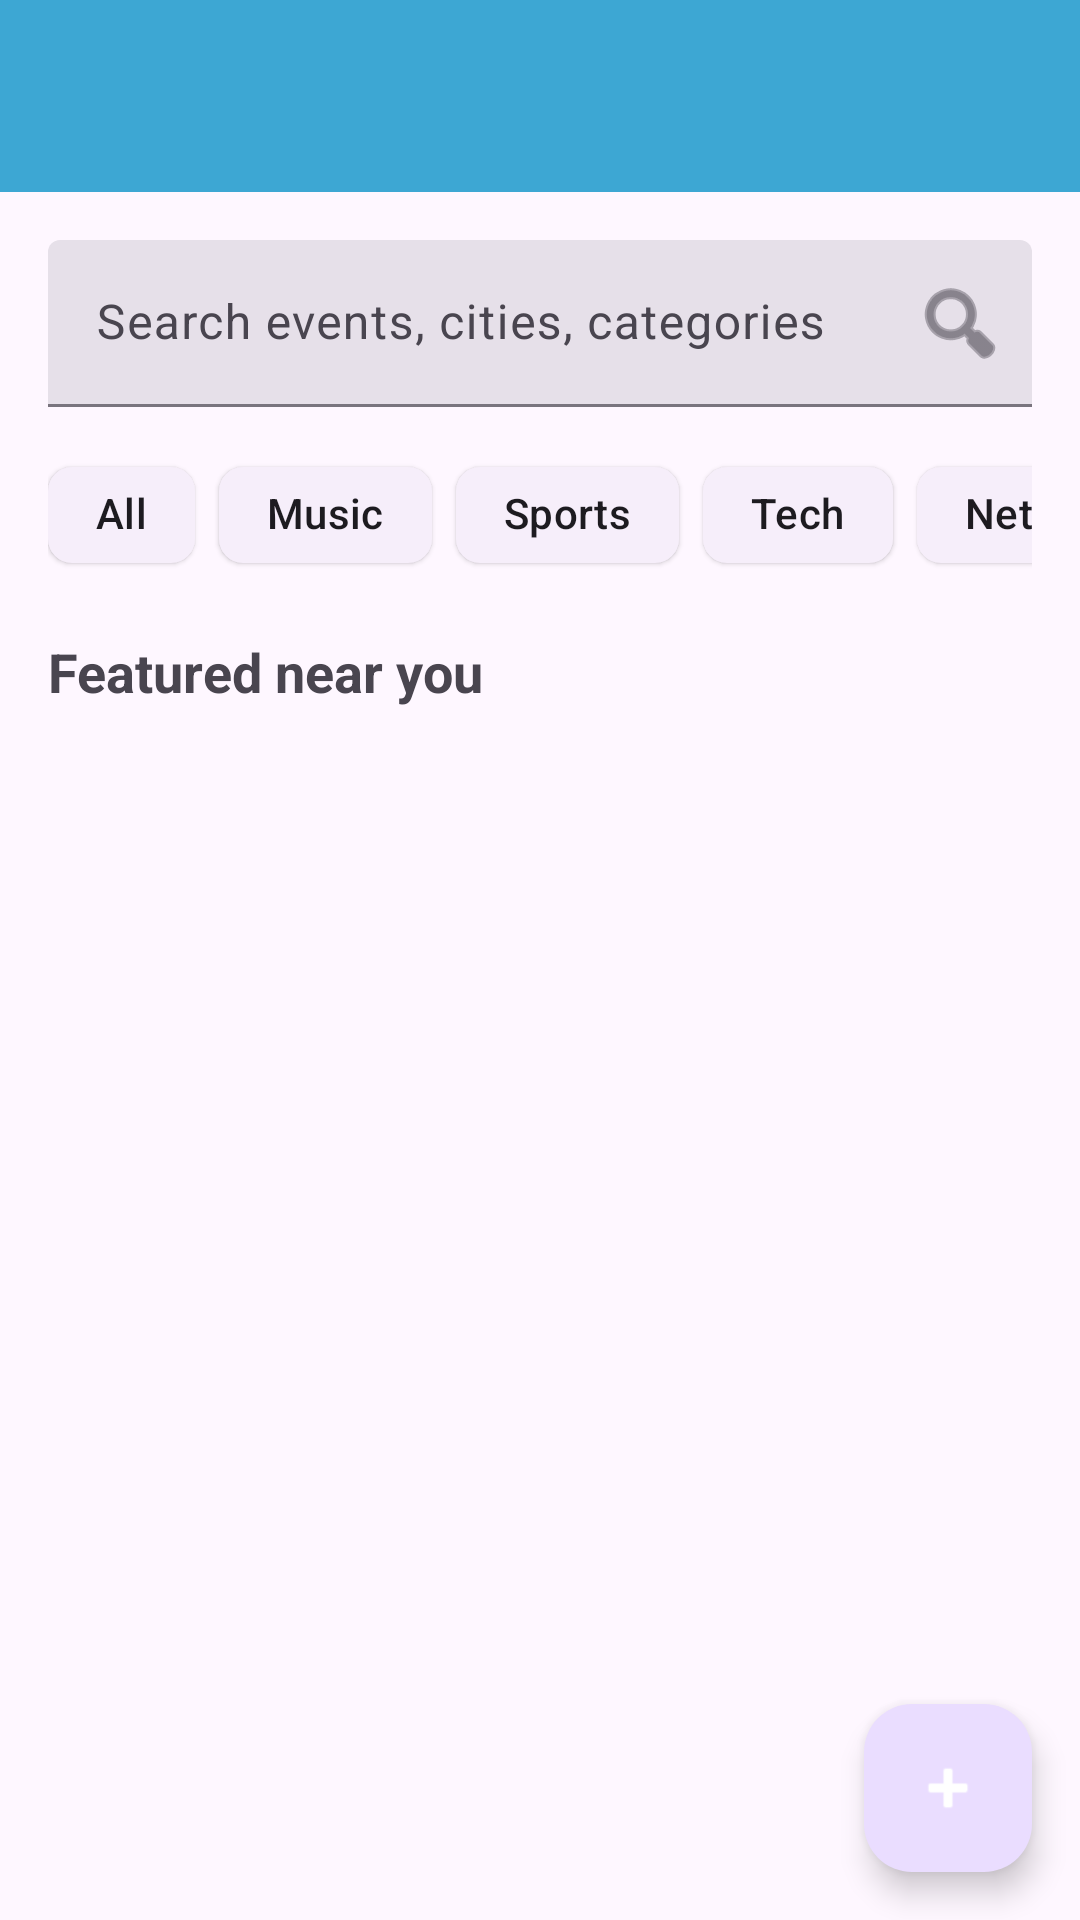

Icon click points for this 1080×1920 phone screenshot, format point (x, y):
Create event: point (948, 1788)
